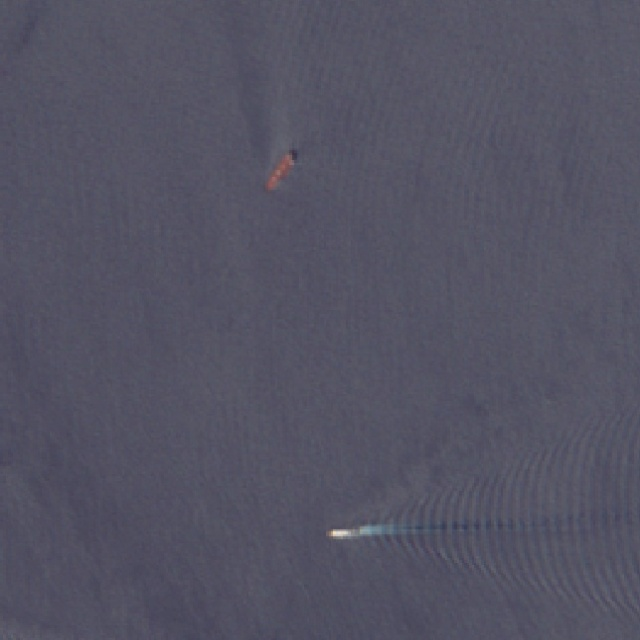wake: (324, 461, 522, 596)
